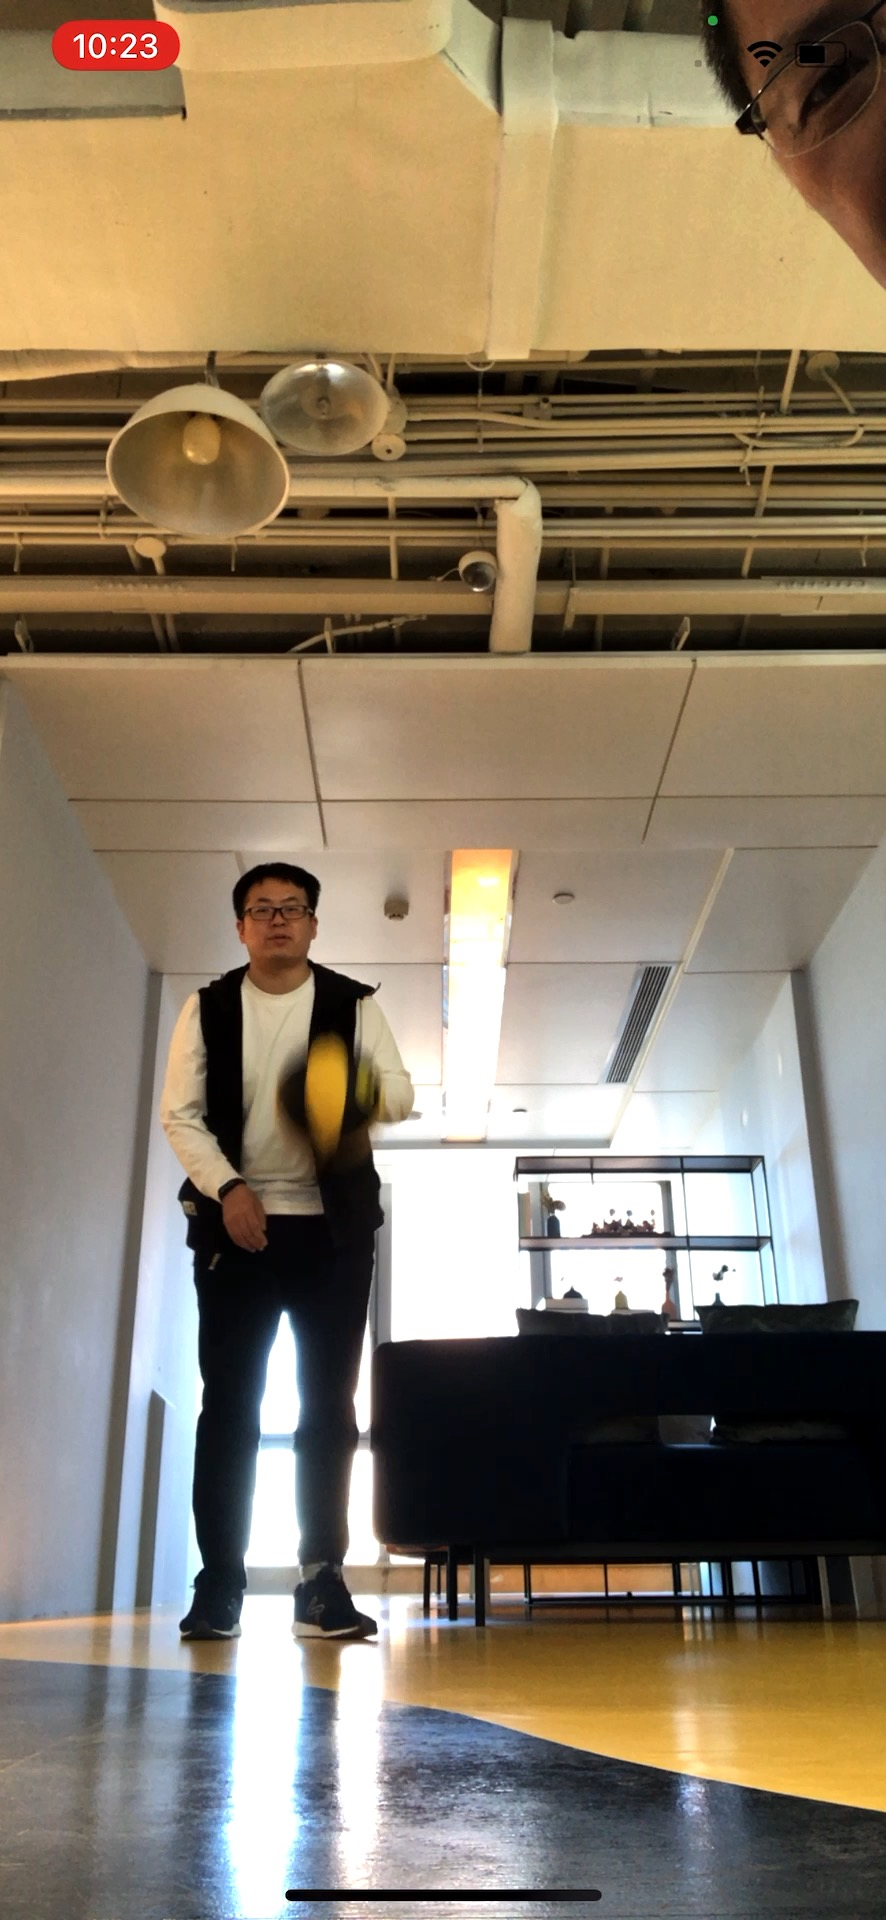ball: (274, 1037, 385, 1155)
